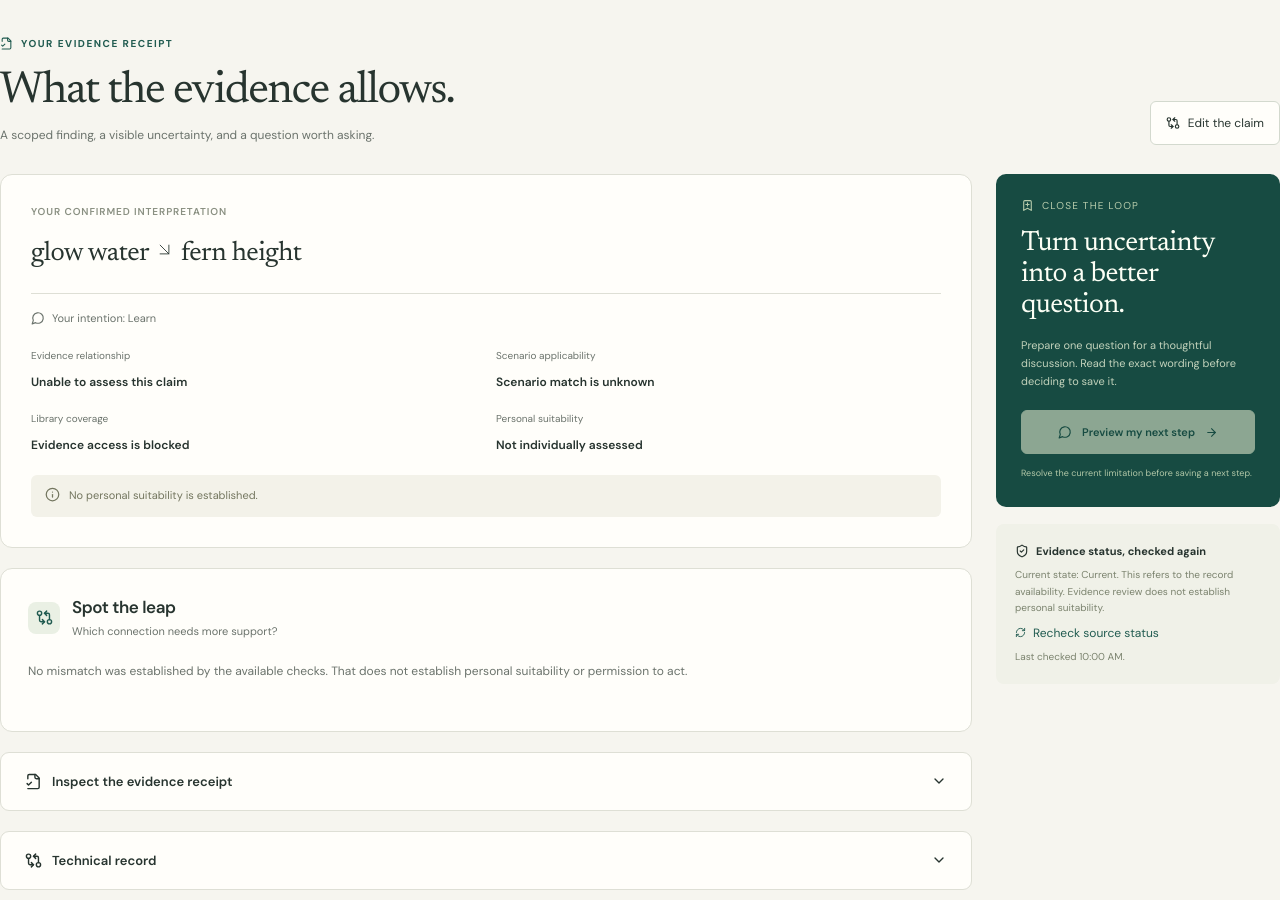
Scenario: Explicit save consent and current evidence boundaries › labels an extraction-only receipt without claiming an evidence comparison
Click the heading "Inspect the evidence receipt" at (142, 781), box [25,773,947,790]
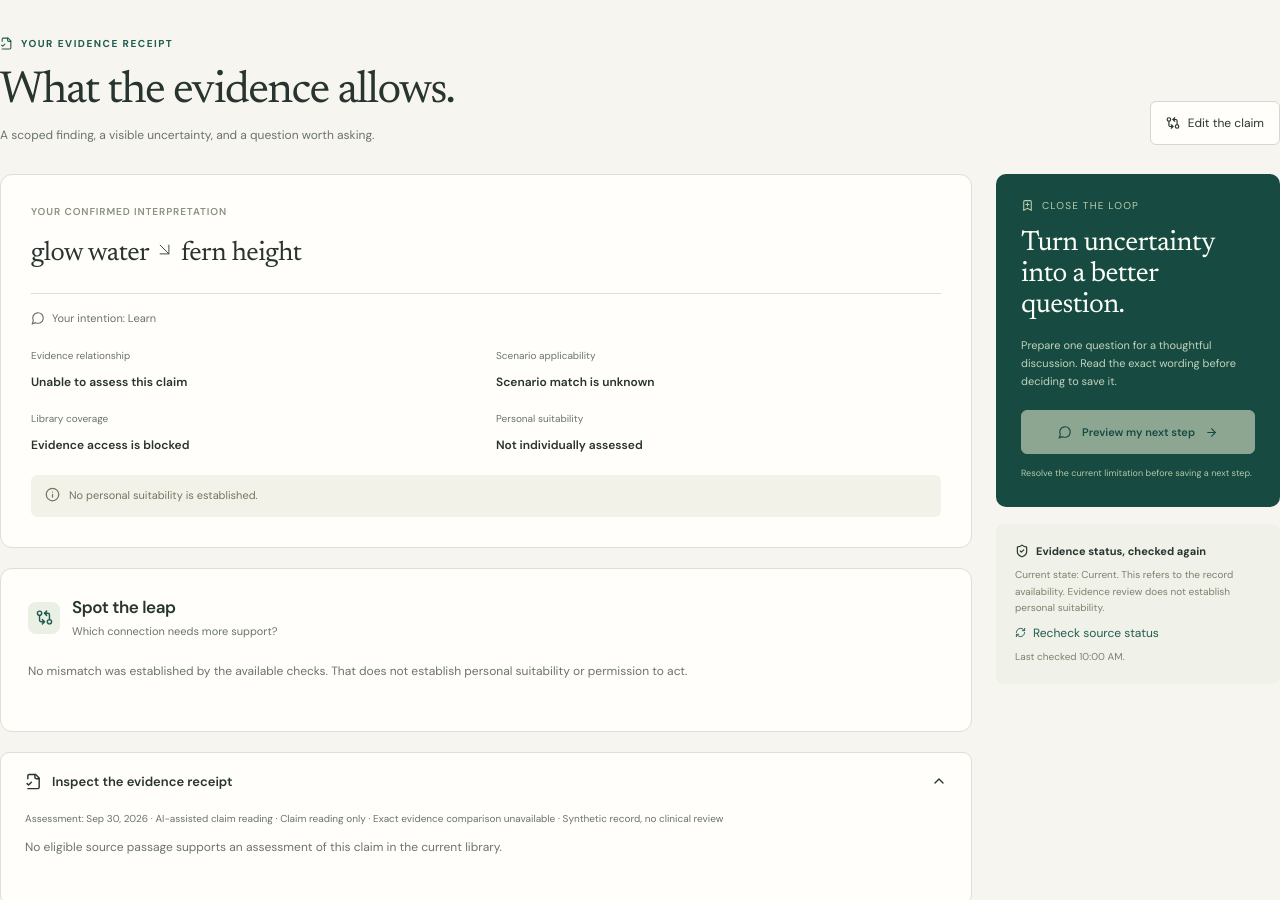
Expected: the text "Unable to assess this claim" is shown, [31,374,187,390]
Expected: the text "Claim reading only · Exact evidence comparison unavailable" is shown, [280,812,555,825]
Expected: the text "AI-assisted claim reading" is shown, [155,812,273,825]
